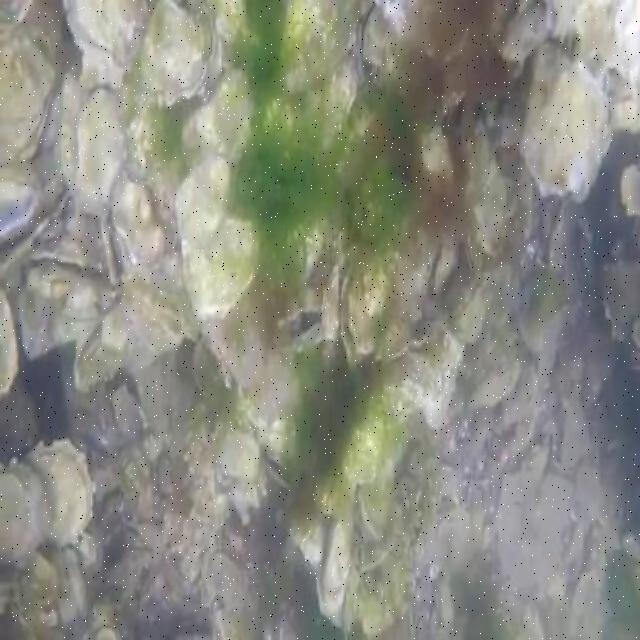Oyster-Closed: (520, 46, 609, 202), (542, 0, 638, 135), (1, 0, 62, 164), (140, 0, 216, 108), (185, 221, 259, 320), (344, 382, 408, 484), (183, 70, 252, 161), (75, 89, 125, 206), (179, 152, 233, 253), (0, 467, 49, 568), (217, 297, 269, 387), (318, 502, 356, 619), (518, 276, 568, 351), (61, 78, 91, 182), (360, 0, 394, 86), (474, 351, 521, 404), (607, 261, 638, 332), (420, 125, 454, 188), (453, 280, 488, 341), (0, 287, 19, 397), (218, 435, 259, 479), (320, 265, 340, 344), (404, 484, 426, 553), (464, 220, 491, 276), (623, 161, 638, 215), (334, 224, 350, 268)
Oyster-Open: (24, 439, 95, 545), (112, 170, 176, 279), (65, 0, 150, 68), (28, 235, 109, 286), (340, 256, 378, 364), (1, 160, 41, 244), (425, 237, 457, 301), (102, 215, 131, 285), (280, 307, 323, 350), (262, 451, 296, 493)
